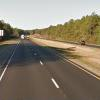Tree: (40, 13, 100, 43)
